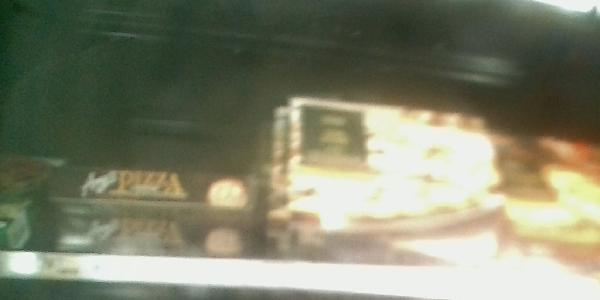pizza1: (268, 92, 499, 252)
pizza2: (45, 157, 253, 215), (41, 212, 255, 258)
